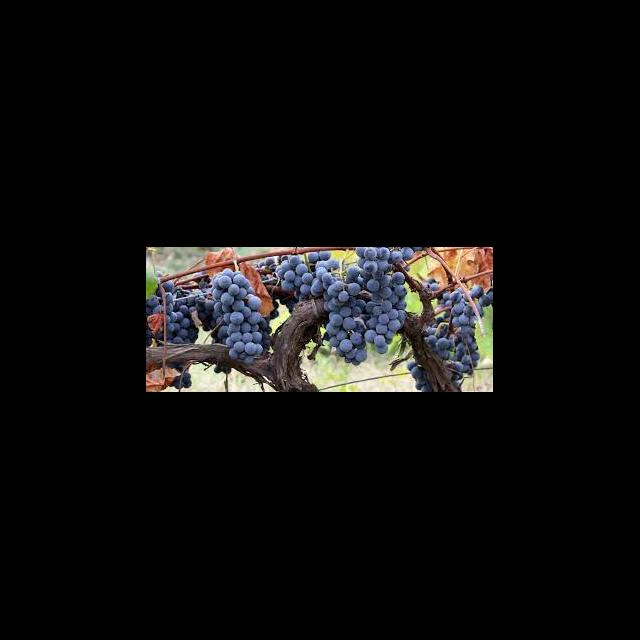grape: (315, 248, 413, 361), (200, 266, 269, 369)
